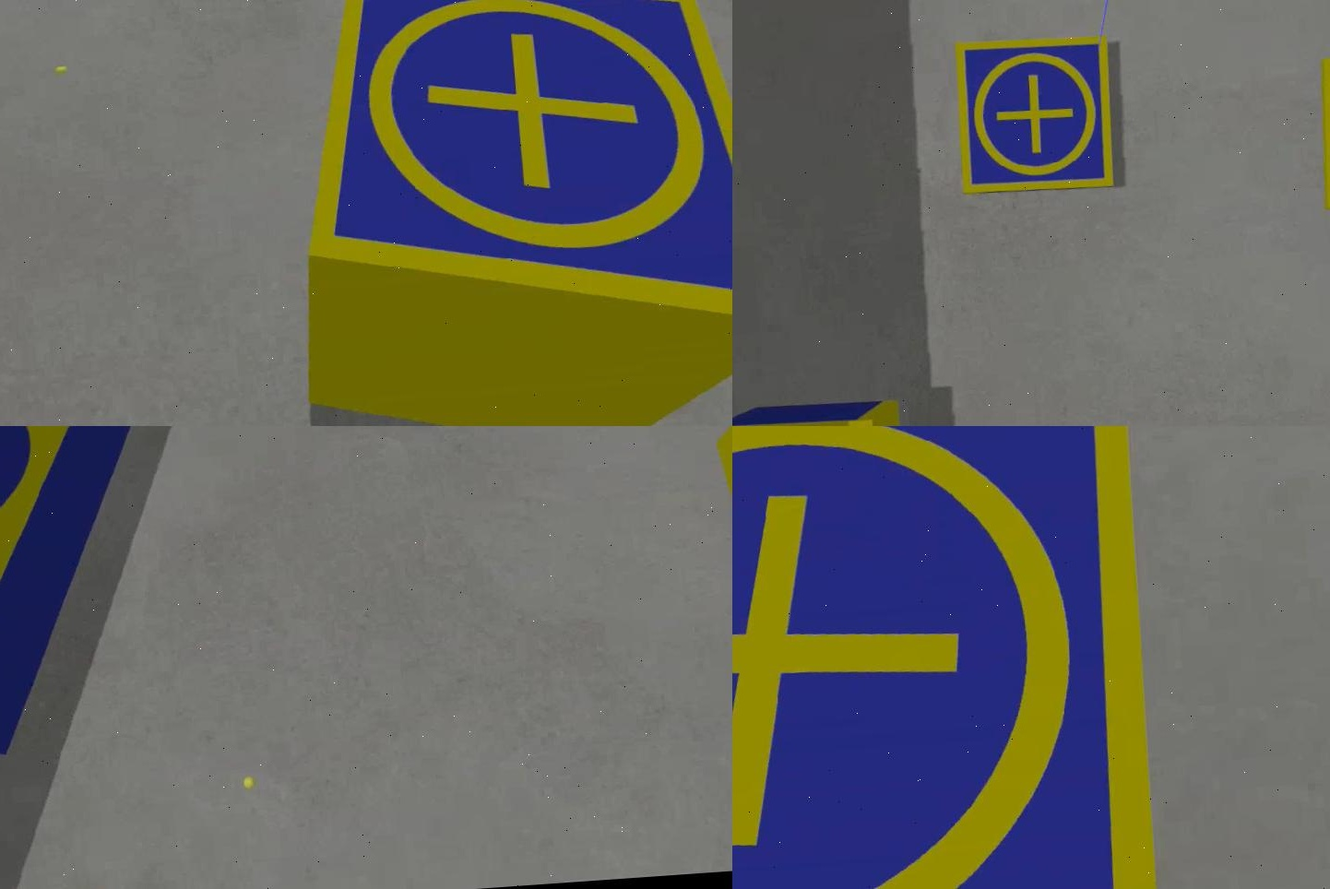large_base: (0, 426, 200, 782)
small_base: (731, 426, 1176, 889), (285, 1, 731, 369), (951, 33, 1118, 198)
